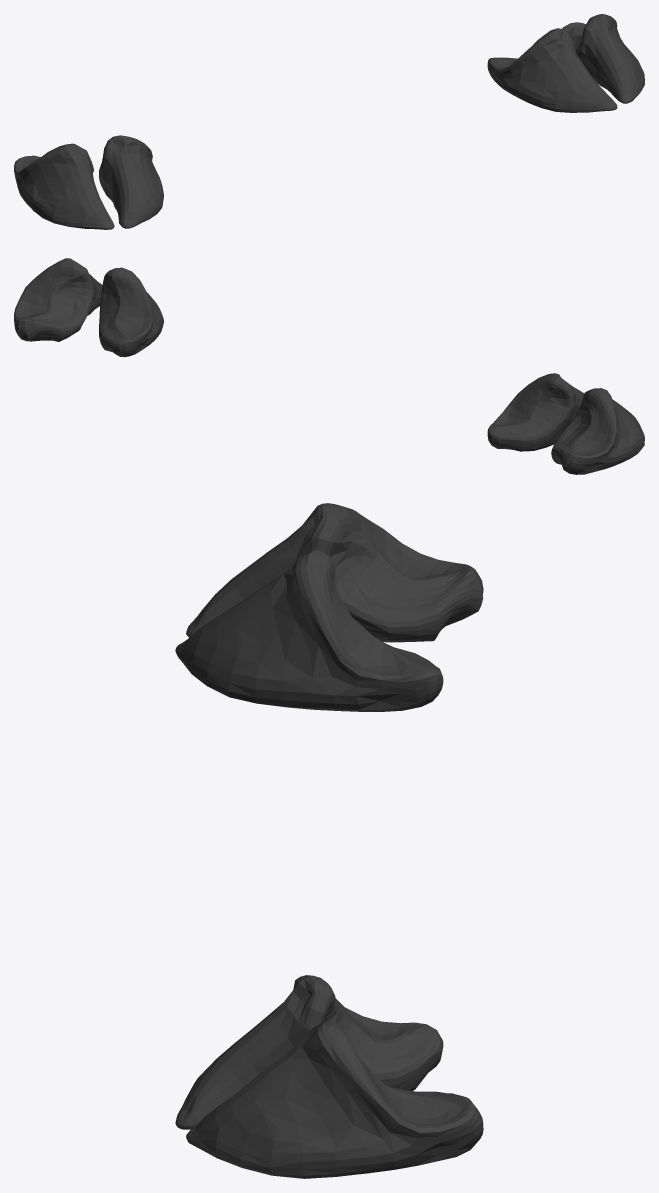
3 renders of one model, top to bottom at view 1: azimuth 30°, elevation 25°; view 2: azimuth 150°, elevation 25°; view 3: azimuth 270°, elevation 25°, orthographic. The views are drawn at different scales.
Parts seen in each view (by area): view 1: b_HL_P3_L_LO; view 2: b_HL_P3_L_LO; view 3: b_HL_P3_L_LO.
Part boxes in pixels (bbox=[...]): b_HL_P3_L_LO: bbox=[14, 14, 644, 229]; b_HL_P3_L_LO: bbox=[14, 258, 644, 474]; b_HL_P3_L_LO: bbox=[175, 503, 483, 1178].
Bounding box in the file's own units: 0.004 × 0.000417 × 0.000888.
1 material, 1 textured.
